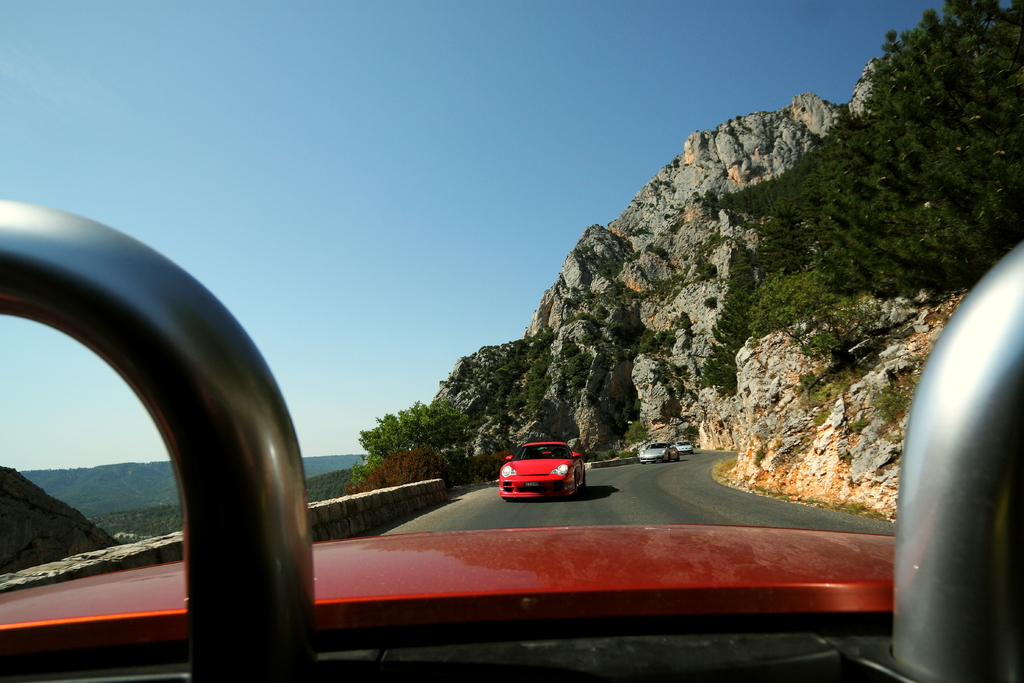Car: (497, 442, 587, 499), (634, 442, 680, 465), (673, 440, 693, 453)
